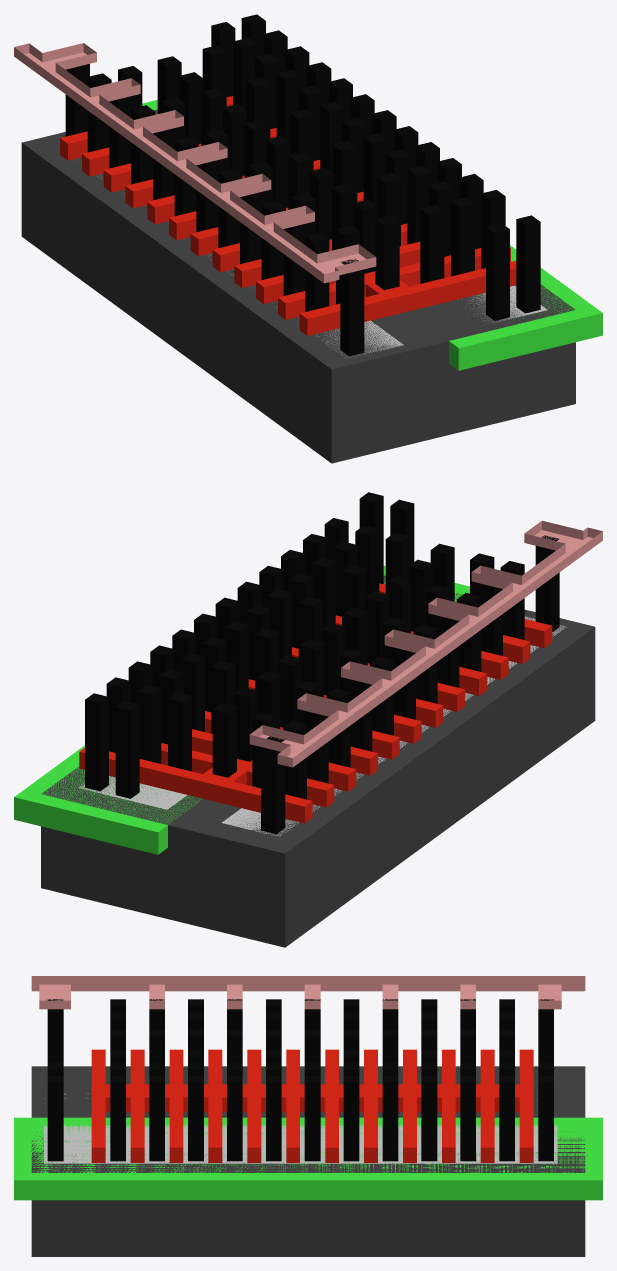
Rendered from sky130_fd_sc_hd__inv_12.obj.
The picture shows the model from 3 angles, top to bottom: view 1: azimuth 30°, elevation 25°; view 2: azimuth 150°, elevation 25°; view 3: azimuth 270°, elevation 25°; orthographic projection. The views are drawn at different scales.
Visible parts, largest first — view 1: licon, subs, poly, li, nwell, diff; view 2: licon, subs, li, poly, nwell, diff, tap; view 3: subs, licon, nwell, poly, li, tap.
Boxes of the visible parts, bbox=[...] form: licon: bbox=[65, 14, 540, 356]; subs: bbox=[21, 109, 575, 463]; poly: bbox=[60, 96, 516, 335]; li: bbox=[14, 43, 376, 283]; nwell: bbox=[142, 100, 602, 370]; diff: bbox=[97, 176, 403, 357]; licon: bbox=[85, 492, 559, 834]; subs: bbox=[41, 575, 595, 947]; li: bbox=[249, 520, 602, 767]; poly: bbox=[79, 583, 552, 823]; nwell: bbox=[14, 565, 469, 854]; diff: bbox=[221, 616, 566, 836]; tap: bbox=[78, 582, 385, 809]; subs: bbox=[31, 1066, 585, 1256]; licon: bbox=[47, 999, 553, 1161]; nwell: bbox=[14, 1117, 602, 1200]; poly: bbox=[91, 1049, 533, 1162]; li: bbox=[31, 976, 585, 1009]; tap: bbox=[44, 1124, 557, 1163].
Bounding box in the file's own units: 3 × 2.04 × 6.36.
